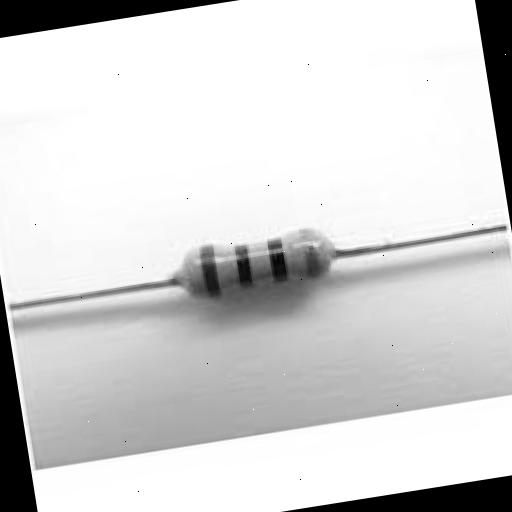RESISTOR: (132, 182, 384, 356)
